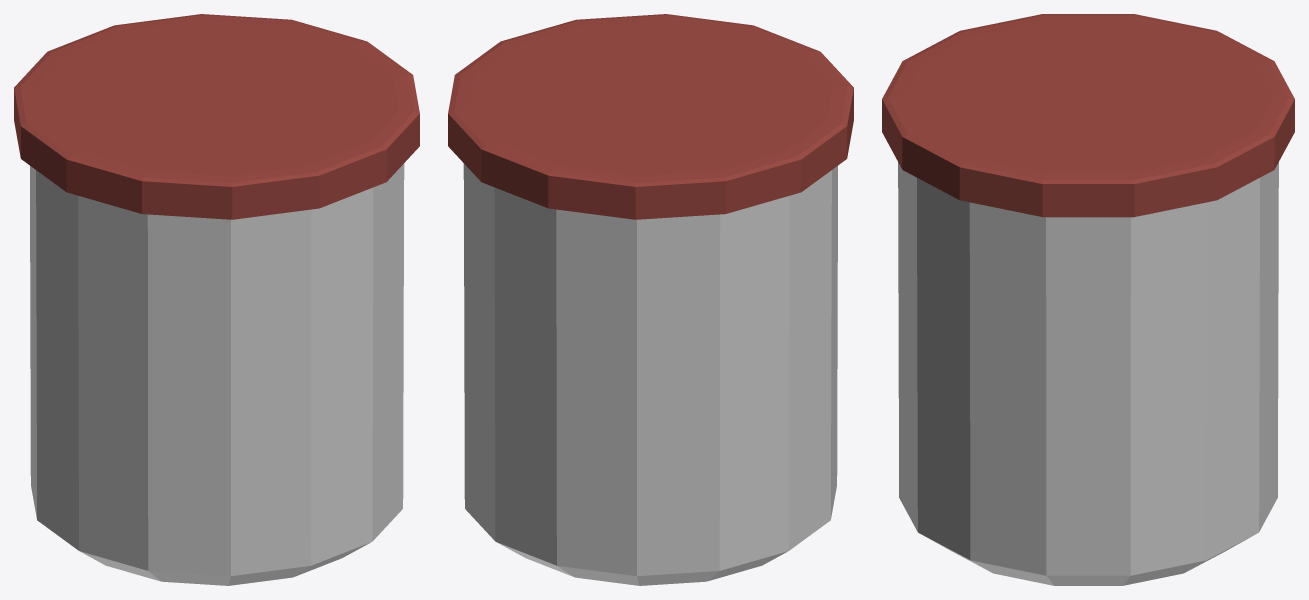
The model's file is tarro.fbx.
The picture shows the model from 3 angles, left to right: view 1: azimuth 30°, elevation 25°; view 2: azimuth 150°, elevation 25°; view 3: azimuth 270°, elevation 25°; orthographic projection.
Parts seen in each view (by area): view 1: Cylinder.005, Cylinder.006; view 2: Cylinder.005, Cylinder.006; view 3: Cylinder.005, Cylinder.006.
Part boxes in pixels (x1=…): Cylinder.005: x1=30, y1=163, x2=404, y2=585; Cylinder.006: x1=14, y1=14, x2=419, y2=219; Cylinder.005: x1=463, y1=163, x2=837, y2=585; Cylinder.006: x1=448, y1=14, x2=853, y2=219; Cylinder.005: x1=898, y1=162, x2=1278, y2=585; Cylinder.006: x1=882, y1=14, x2=1294, y2=217.
Size of the model in its own units: 31.69 by 36.06 by 30.9.
